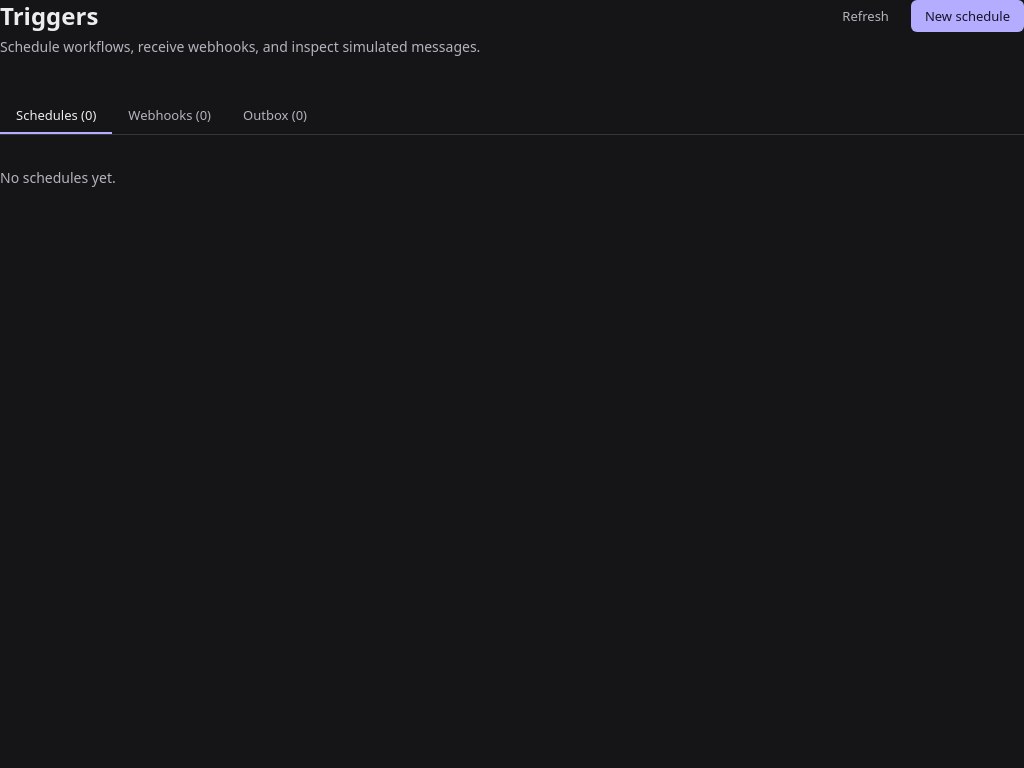
Scenario: B39: the signing secret is shown once › a failed registration shows the formatted error and no secret panel
Click the tab with test id "tab-webhooks" at point(170, 116), box [112, 98, 227, 134]
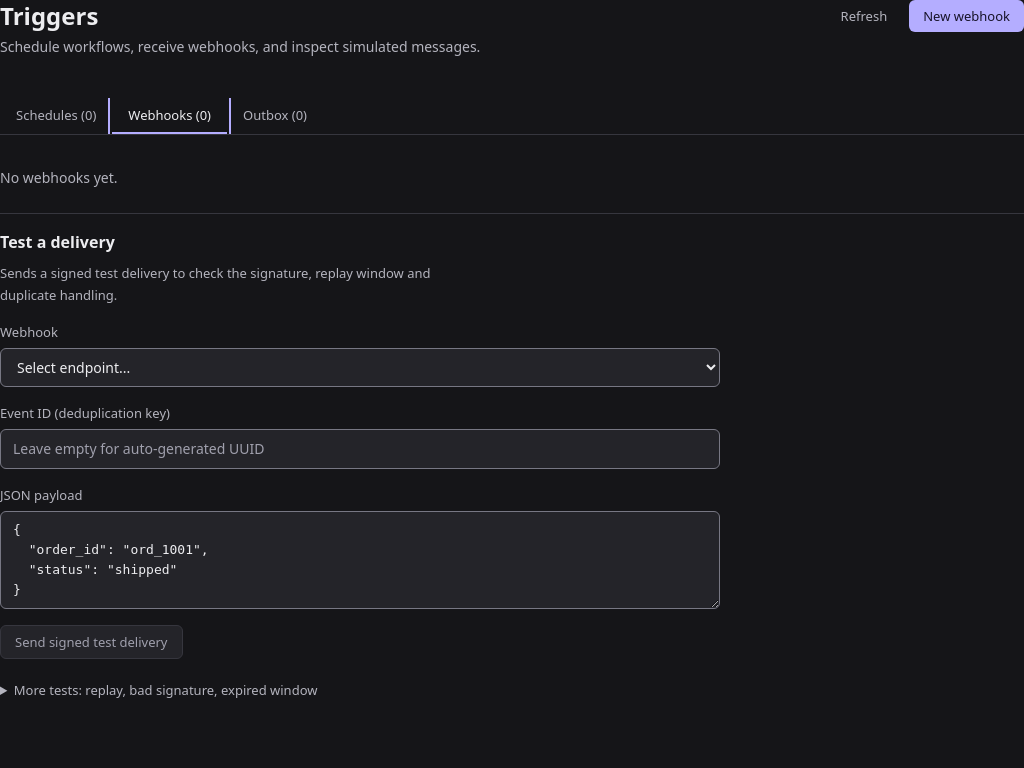
Click the button with test id "btn-open-register-webhook" at point(967, 16), box [909, 0, 1023, 32]
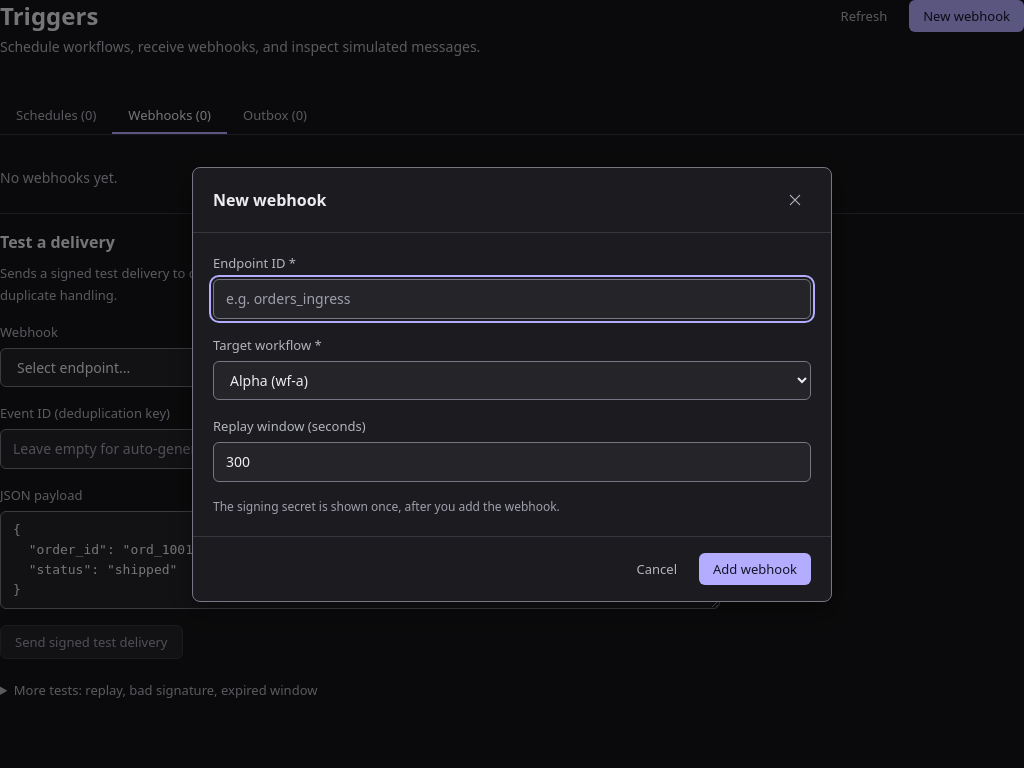
Type "orders" into the field with test id "input-new-webhook-id" at point(512, 298), box [213, 278, 811, 318]
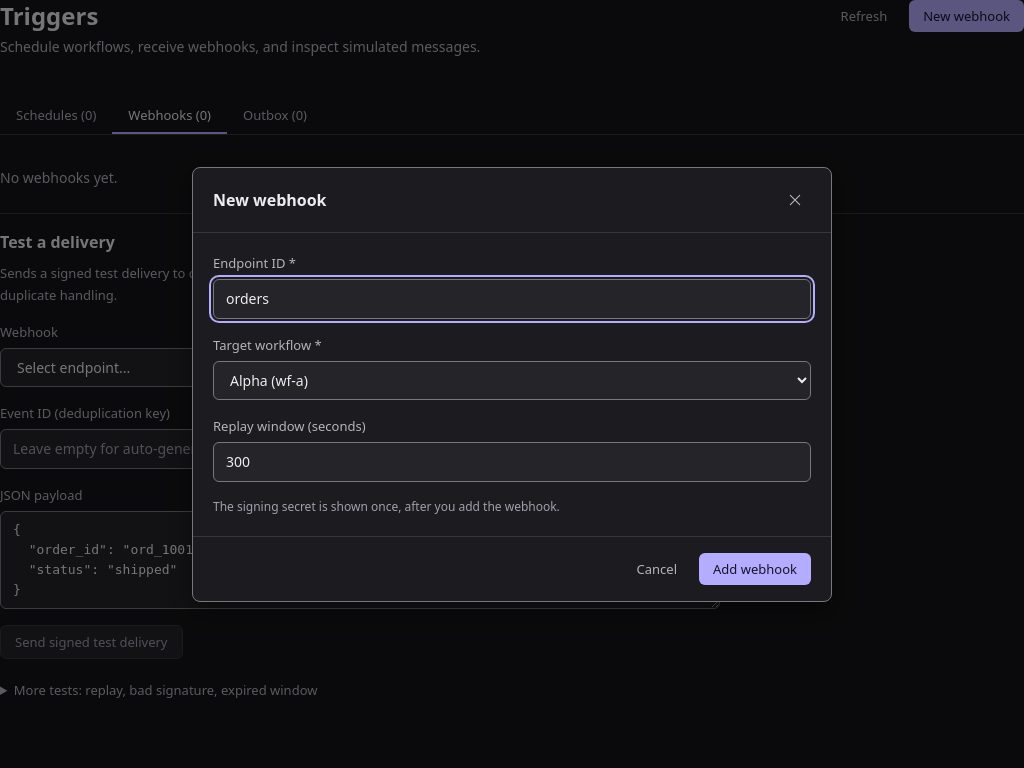
Expected: the dropdown with test id "select-new-webhook-wfid" is enabled, [213, 360, 811, 400]
Click the button with test id "btn-submit-register-webhook" at point(755, 568), box [699, 552, 811, 584]
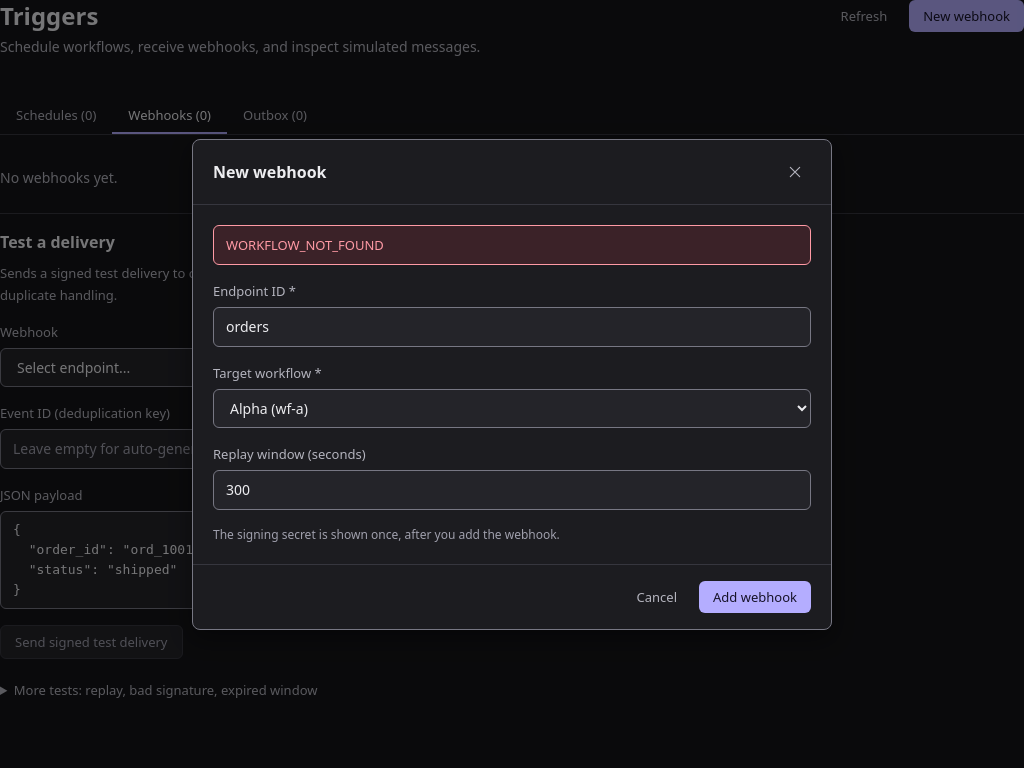
Expected: the text "WORKFLOW_NOT_FOUND" is shown, [226, 234, 384, 256]
